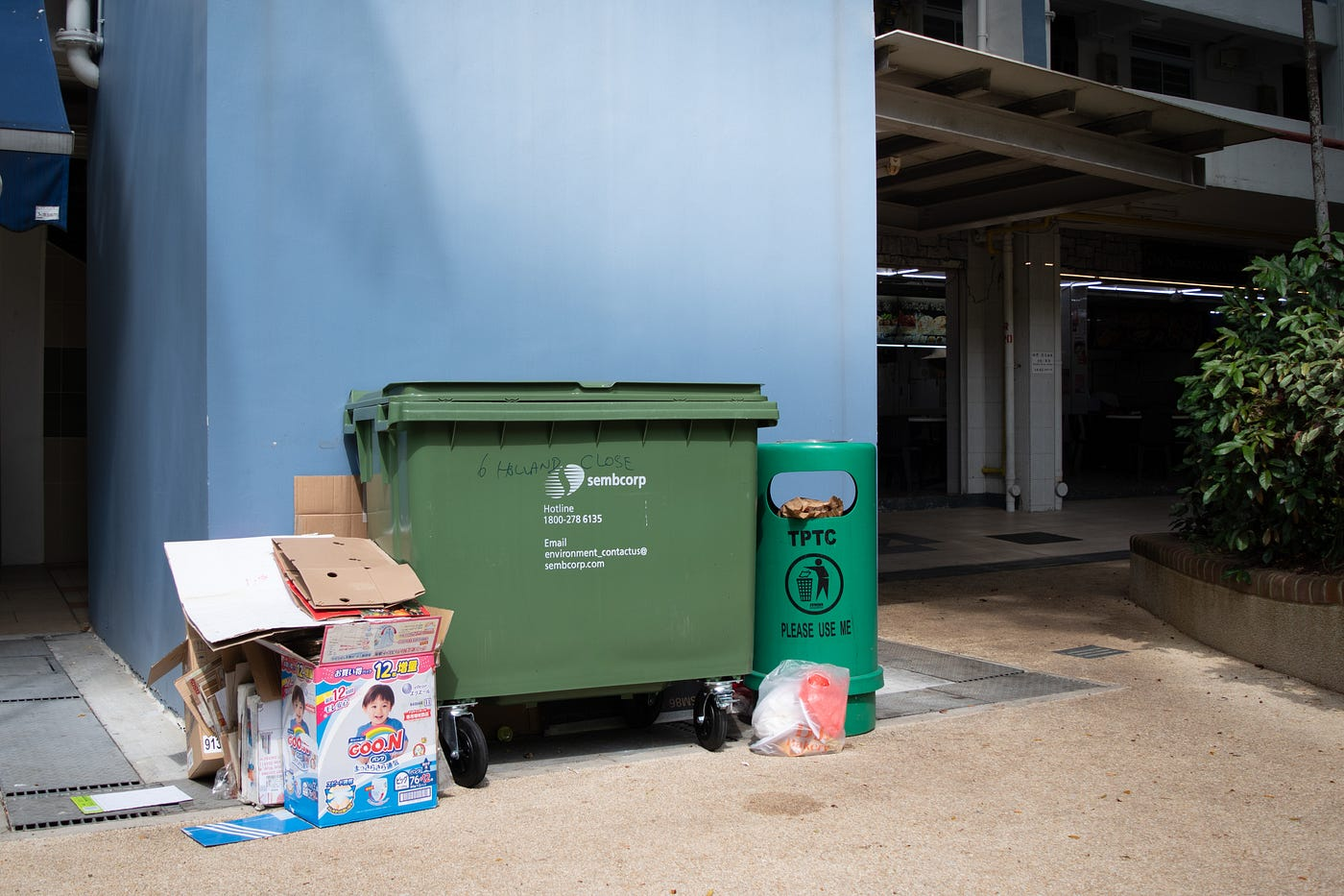bin_empty: (346, 384, 778, 701), (746, 442, 881, 734)
bulk_waste: (281, 616, 446, 826), (164, 535, 423, 647), (149, 621, 286, 806), (294, 476, 366, 535)
normal_waste: (752, 660, 849, 756)
